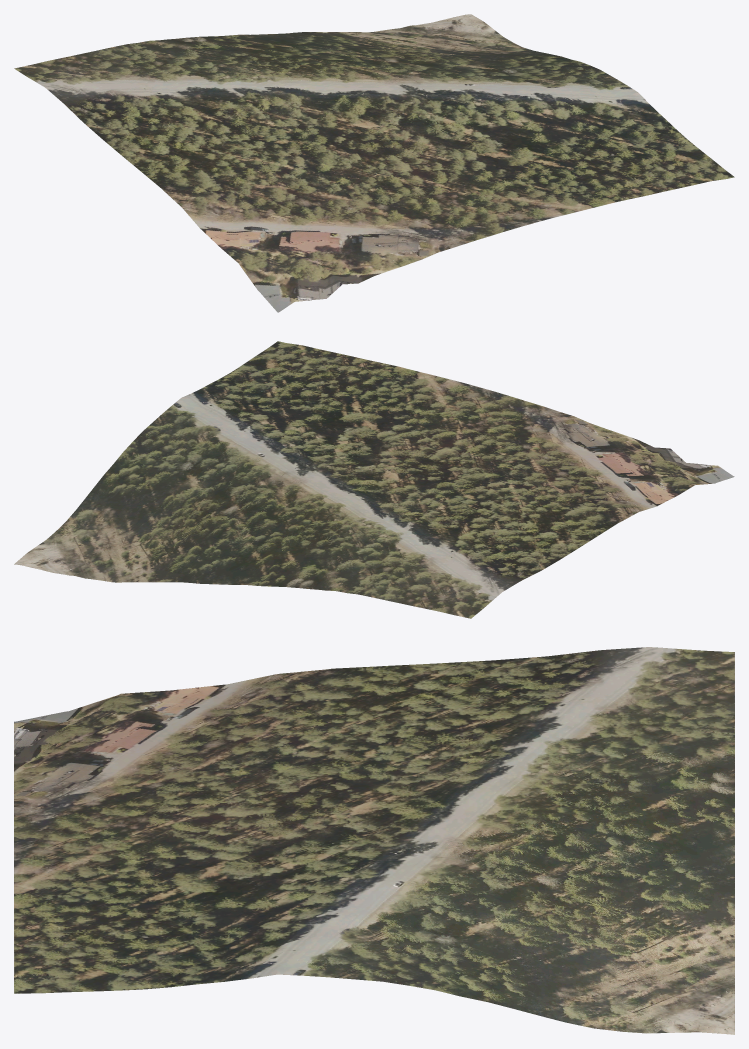
Rendered from CM_Terrain_24490049_6819999.fbx.
3 renders of one model, top to bottom at view 1: azimuth 30°, elevation 25°; view 2: azimuth 150°, elevation 25°; view 3: azimuth 270°, elevation 25°, orthographic. The views are drawn at different scales.
Visible parts, largest first — view 1: CM_Terrain_24490049_6819999_LOD0; view 2: CM_Terrain_24490049_6819999_LOD0; view 3: CM_Terrain_24490049_6819999_LOD0.
Boxes of the visible parts, x1,y1,x2,y2 form: CM_Terrain_24490049_6819999_LOD0: (14,14,734,312); CM_Terrain_24490049_6819999_LOD0: (14,341,734,618); CM_Terrain_24490049_6819999_LOD0: (14,647,734,1034).
Size of what is drawn, in the model's own units: 205 by 26.12 by 205.
